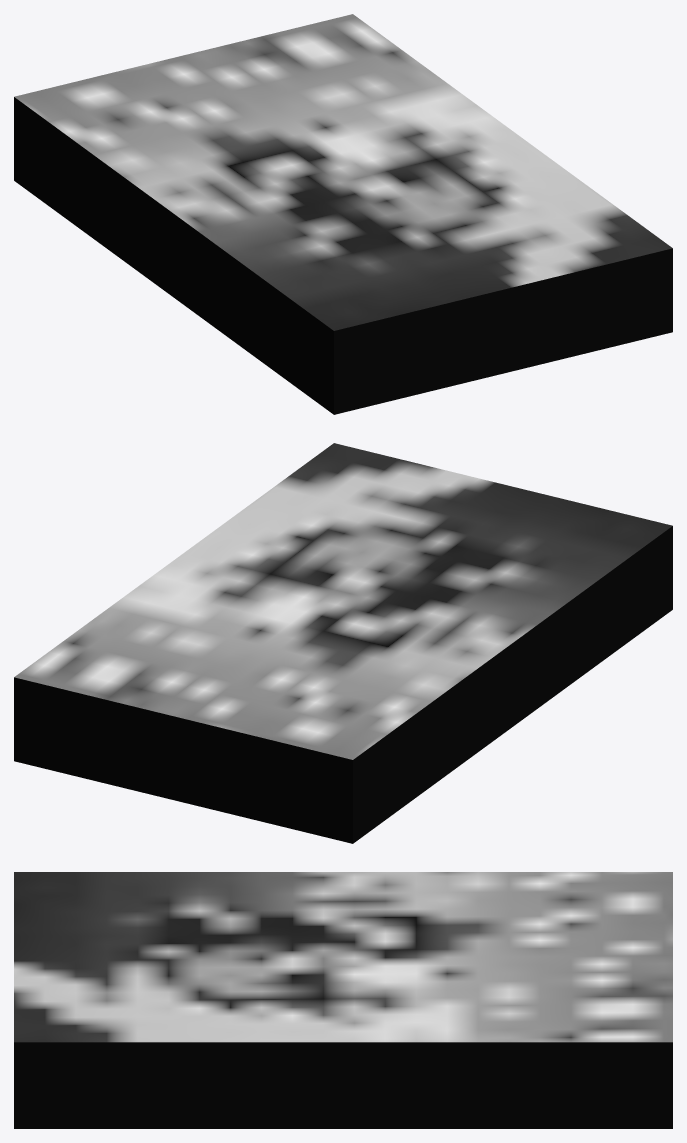
The model's file is PaperVHS13.obj.
The picture shows the model from 3 angles, top to bottom: view 1: azimuth 30°, elevation 25°; view 2: azimuth 150°, elevation 25°; view 3: azimuth 270°, elevation 25°; orthographic projection. The views are drawn at different scales.
Parts seen in each view (by area): view 1: PaperVHS13_Cube.016; view 2: PaperVHS13_Cube.016; view 3: PaperVHS13_Cube.016.
Boxes of the visible parts, x1,y1,x2,y2 form: PaperVHS13_Cube.016: (14,14,672,414); PaperVHS13_Cube.016: (14,443,672,843); PaperVHS13_Cube.016: (14,872,672,1128).
Bounding box in the file's own units: 0.4069 × 0.0962 × 0.6654.
